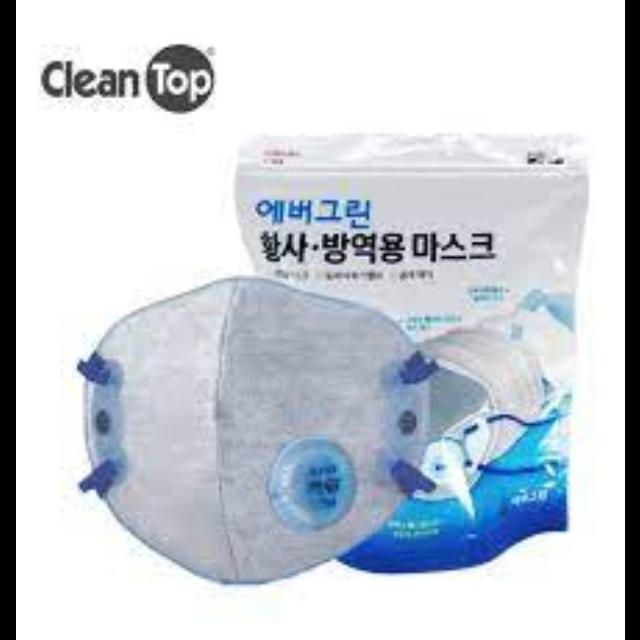masks: (60, 273, 452, 595)
